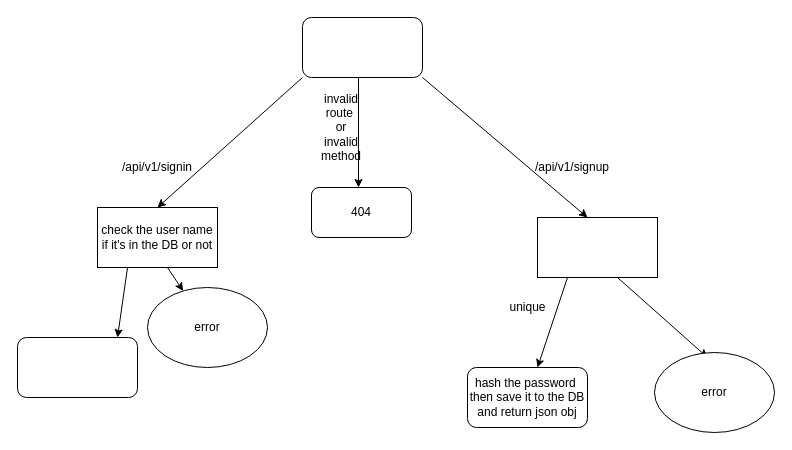
The diagram is 792 pixels wide and 450 high, and some of its shapes have lost their labels. The shapes that lost their labels are listed below. From the top down, each one's centre as x and y in pixels, then its label:
At pixel 362 47: "server".
At pixel 597 247: "check the user name".
At pixel 77 367: "return json obj".
